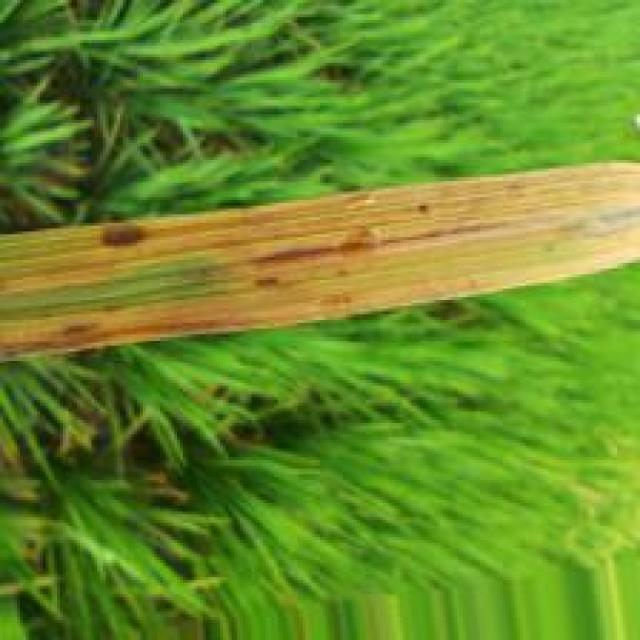Rice Tungro: (239, 208, 571, 271), (0, 295, 259, 358), (94, 219, 150, 250)
